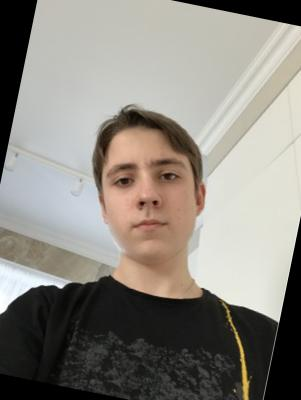without_mask: (86, 141, 208, 273)
